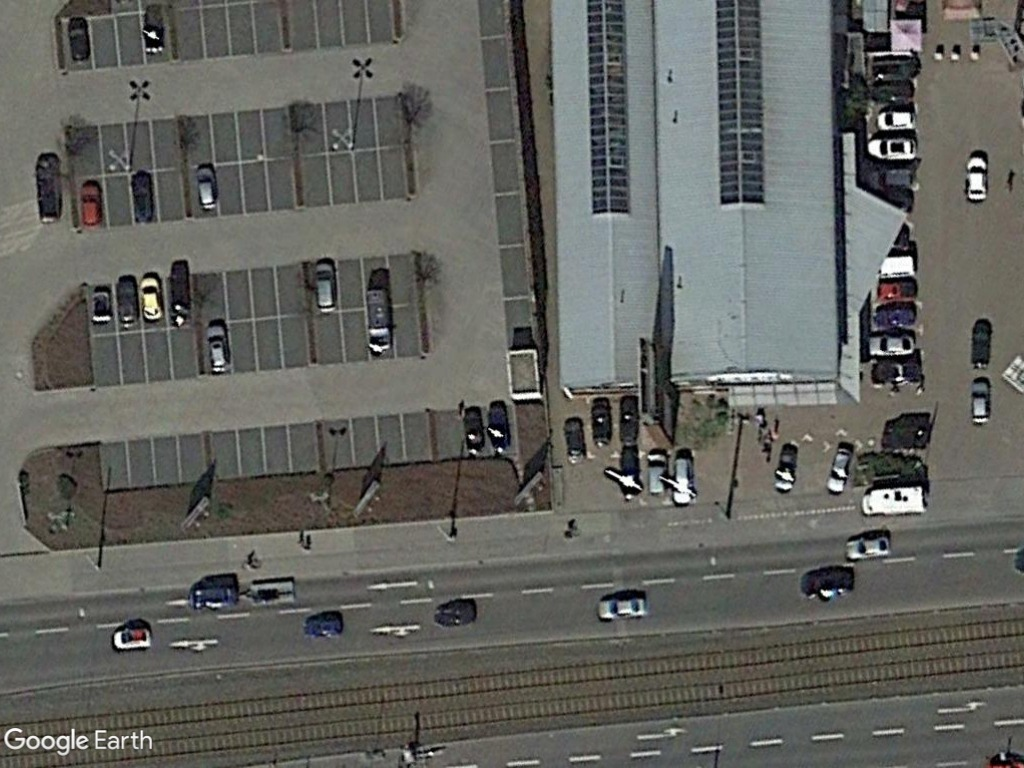car: (592, 593, 650, 623), (862, 329, 916, 360), (76, 178, 105, 231), (193, 162, 222, 214), (138, 271, 164, 325), (967, 377, 993, 429), (964, 152, 989, 205)
van: (855, 480, 928, 520)
